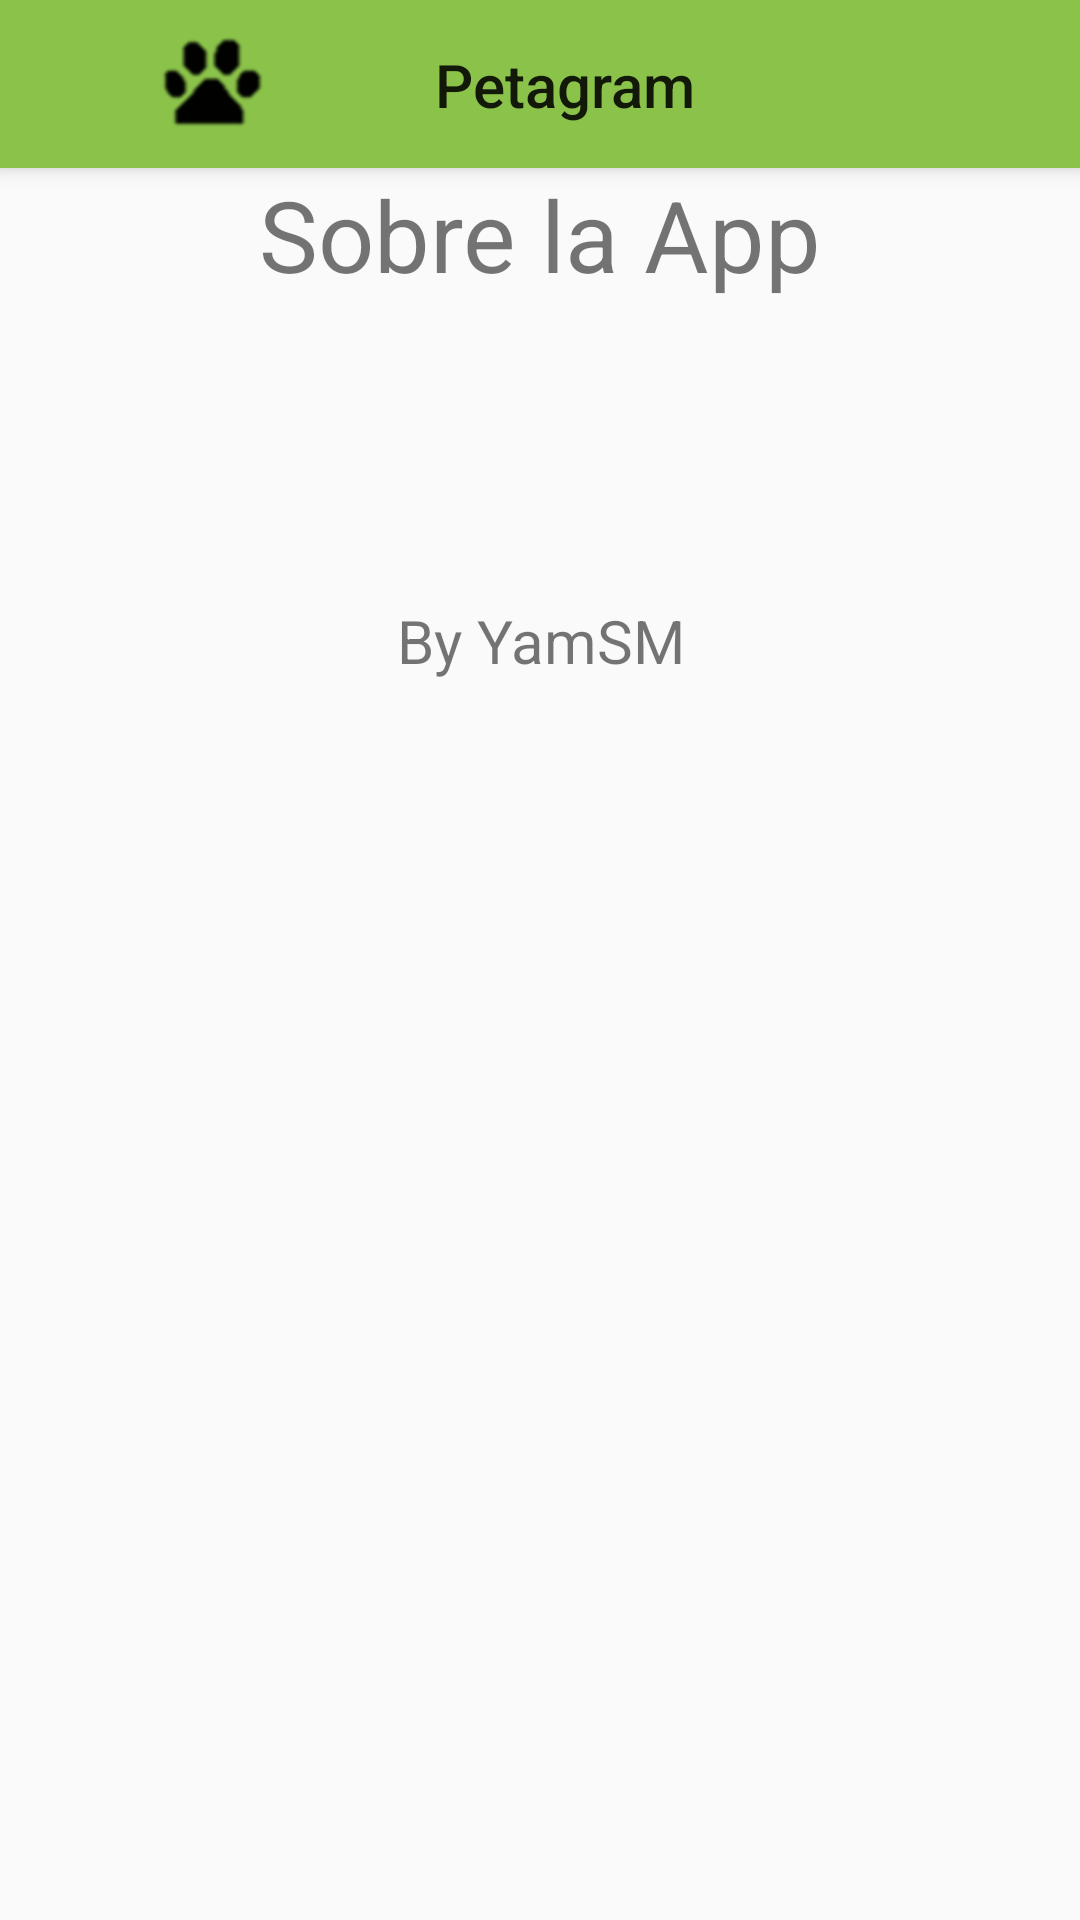

Locate icon controls on the screen. Image size 1080×1920, boxes as (x1, y1, x2, y2).
huellaperro: (163, 38, 262, 126)
